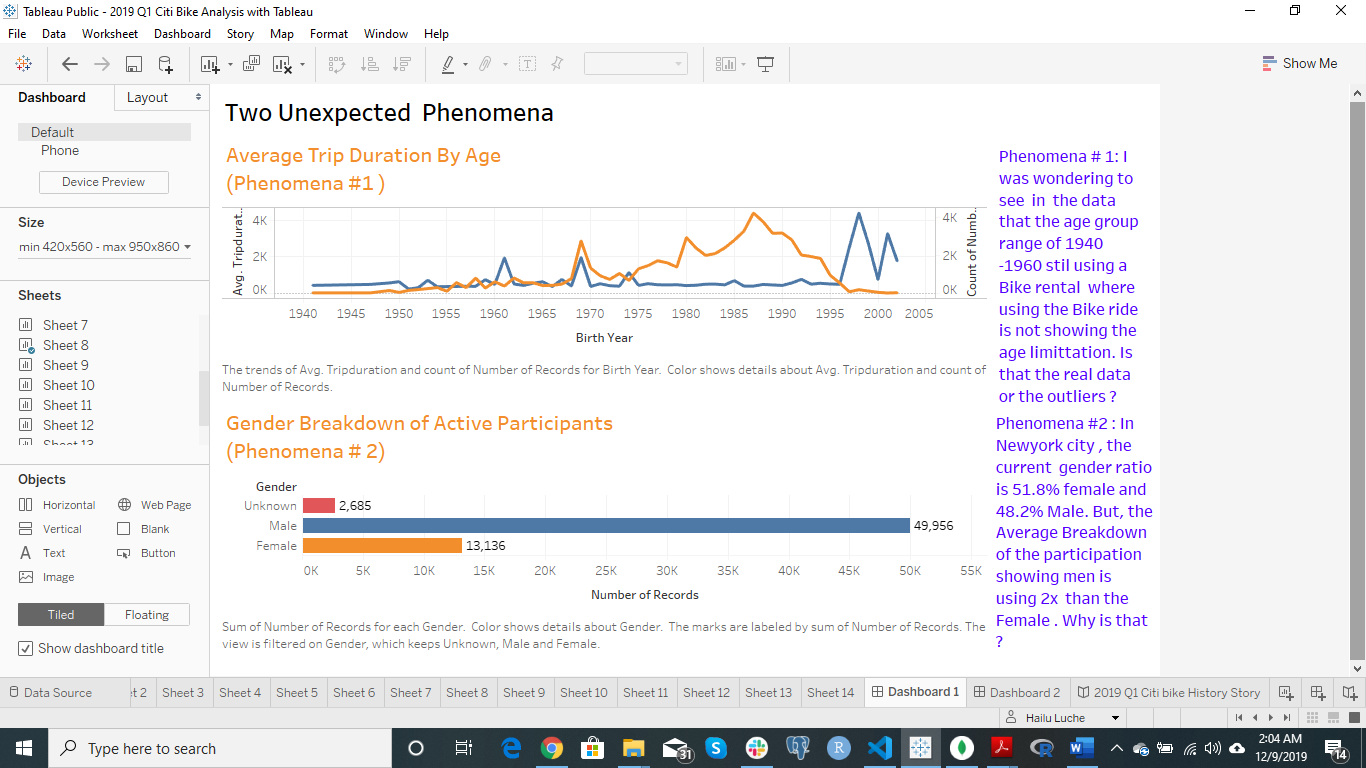

What the dashboard file says about the page in this screenshot:
{"tool":"tableau","page":{"name":"Dashboard 1","canvas":[1000,1000],"units":"permille","ordinal":0},"visuals":[{"type":"worksheet","title":"Sheet 2","mark":"Automatic","rows":["tripduration","Number of Records"],"cols":["birth year"],"box":[8.4,13.5,814.7,486.5]},{"type":"text","box":[823.2,13.5,168.4,487.4]},{"type":"worksheet","title":"Sheet 8","mark":"Automatic","rows":["gender"],"cols":["Number of Records"],"box":[8.4,500,814.7,486.5]},{"type":"text","box":[824.2,549.8,172.6,418.2]}]}

Visuals, with their boxes on the dashboard's canvas, which has no fixed pixel size, in thousandths of its width and height (x1, y1, x2, y2). These are canvas units, not pixel positions in the 1366x768 screenshot, which may show the page scaled, cropped or inside an application window:
"Sheet 2" worksheet: (x1=8, y1=14, x2=823, y2=500)
text: (x1=823, y1=14, x2=992, y2=501)
"Sheet 8" worksheet: (x1=8, y1=500, x2=823, y2=986)
text: (x1=824, y1=550, x2=997, y2=968)
